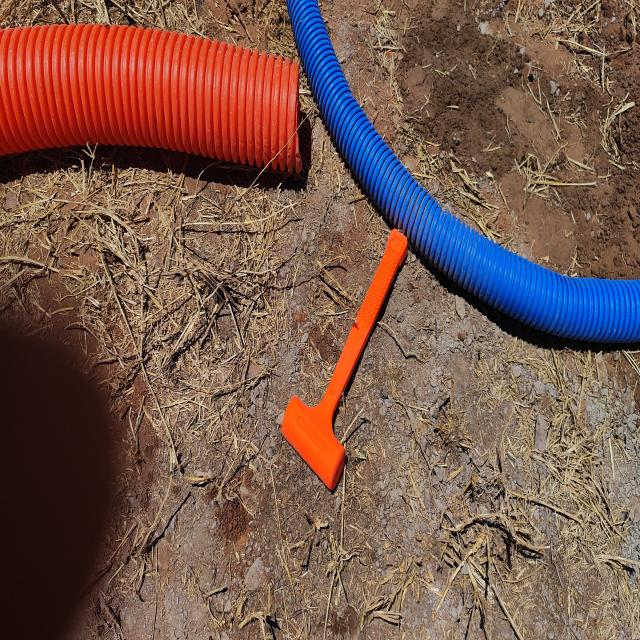Orange_hammer: (279, 227, 411, 493)
